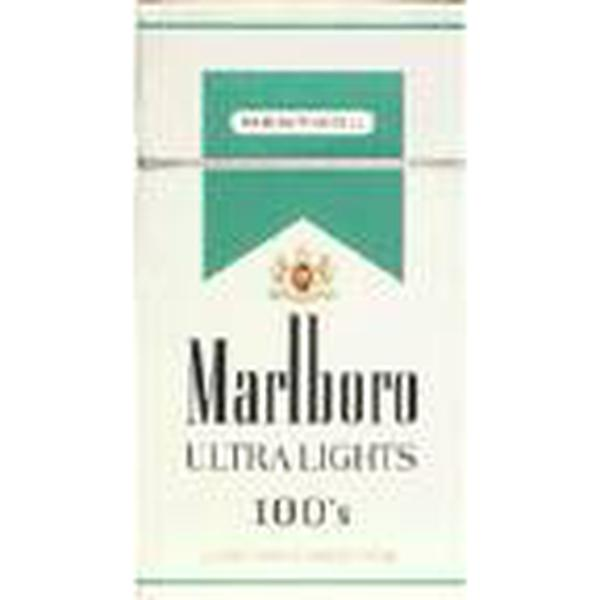marlboro_mentol: (138, 4, 462, 584)
